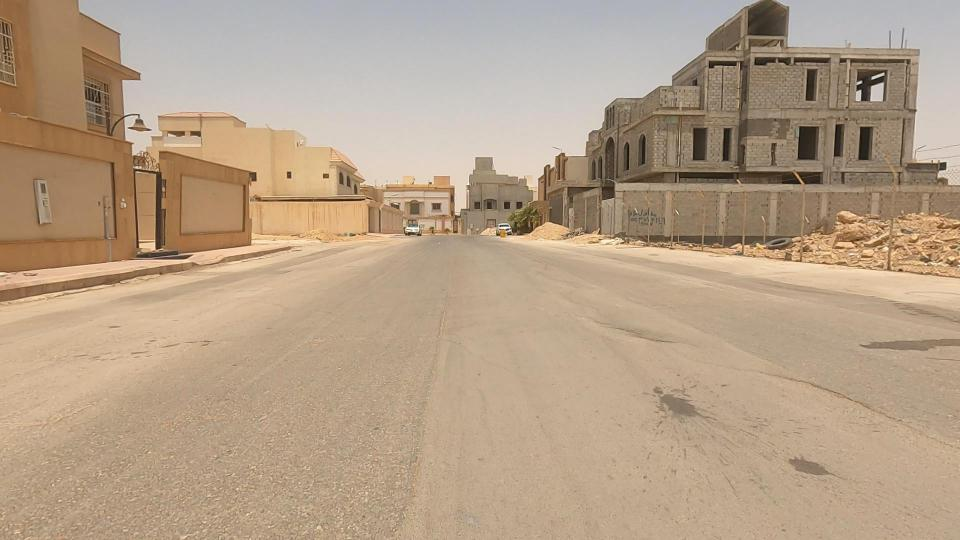GARBAGE: (718, 204, 829, 282)
GRAFFITI: (601, 177, 702, 254)
SAND_ON_ROAD: (501, 199, 604, 259)
